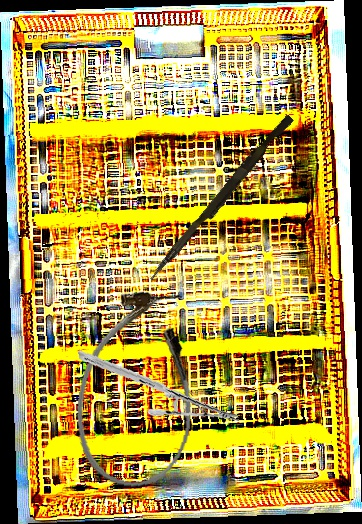Cannula: (67, 282, 208, 496)
Needle Holder: (78, 332, 239, 441)
Pusher: (147, 110, 295, 287)
